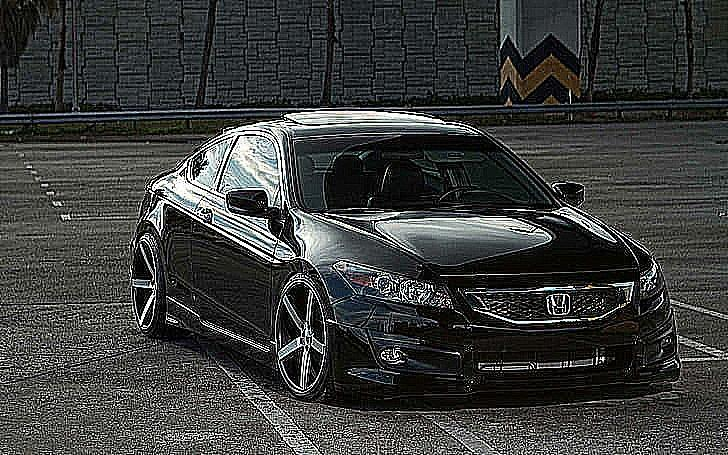Car hood: (287, 208, 655, 285)
Driver-s door - -F-R-: (179, 123, 290, 369)
Fender - -F-R-: (260, 194, 385, 359)
Fender - -R-R-: (133, 141, 210, 289)
Front bumper: (319, 289, 682, 405)
Headlight - -L-: (636, 259, 669, 313)
Headlight - -R-: (337, 258, 452, 311)
Side bumper - -R-: (161, 289, 282, 373)
Side mirror - -L-: (551, 182, 586, 210)
Side mirror - -R-: (224, 186, 291, 231)
